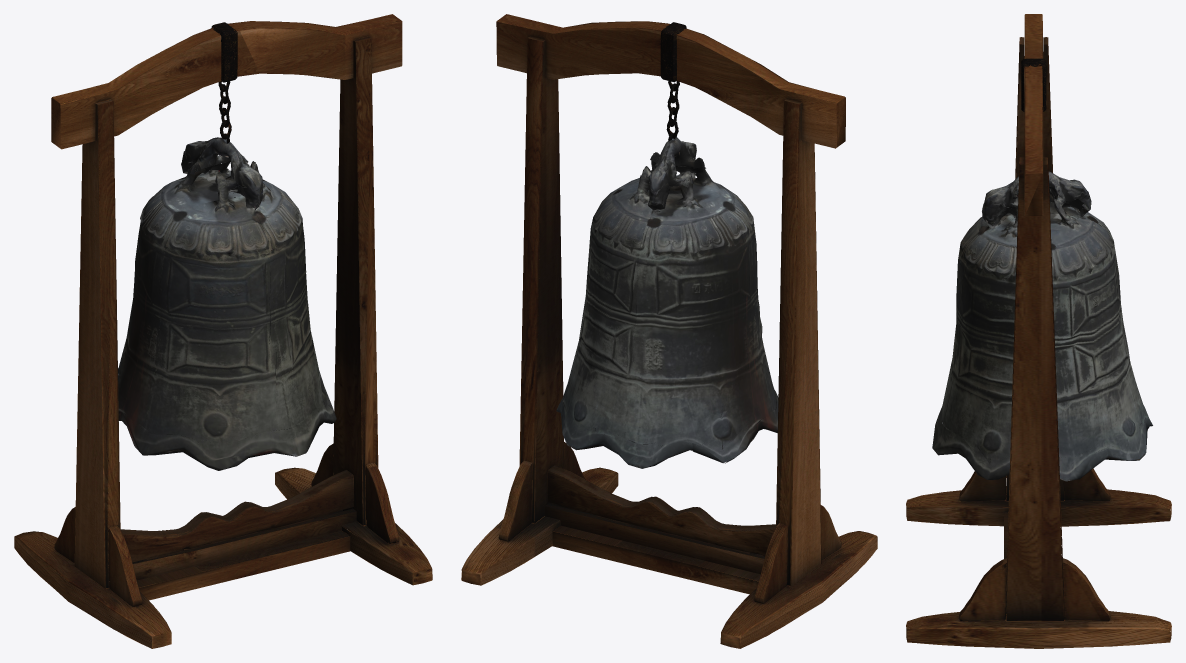
File: bell_hanging.glb
3 renders of one model, left to right at view 1: azimuth 30°, elevation 25°; view 2: azimuth 150°, elevation 25°; view 3: azimuth 270°, elevation 25°, orthographic. The views are drawn at different scales.
Parts seen in each view (by area): view 1: Object_4, Object_2, Object_3; view 2: Object_4, Object_2, Object_3; view 3: Object_4, Object_2, Object_3.
Boxes of the visible parts, left/top/right/bottom form: Object_4: left=14, top=14, right=432, bottom=648; Object_2: left=118, top=137, right=336, bottom=470; Object_3: left=211, top=22, right=237, bottom=143; Object_4: left=461, top=14, right=877, bottom=648; Object_2: left=556, top=137, right=778, bottom=468; Object_3: left=660, top=22, right=686, bottom=141; Object_4: left=906, top=14, right=1171, bottom=648; Object_2: left=932, top=171, right=1152, bottom=481; Object_3: left=1021, top=58, right=1046, bottom=111.
Size of the model in its own units: 11.38 by 17.15 by 8.02.
3 materials, 3 textured.
